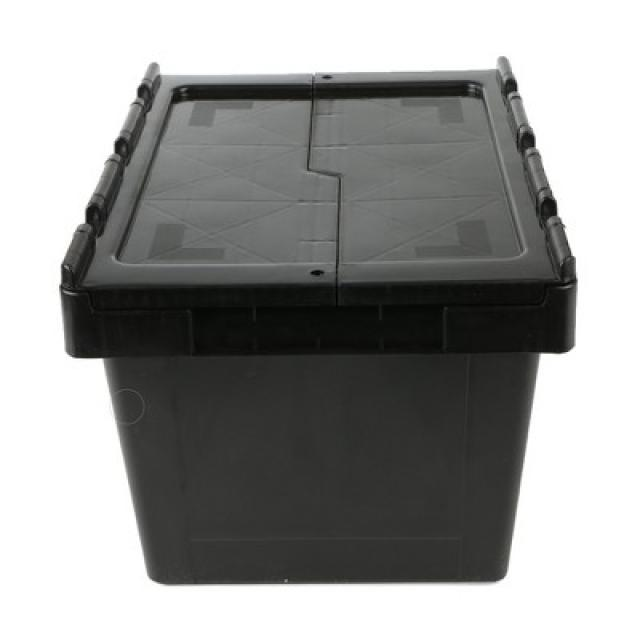basket: (60, 59, 582, 587)
